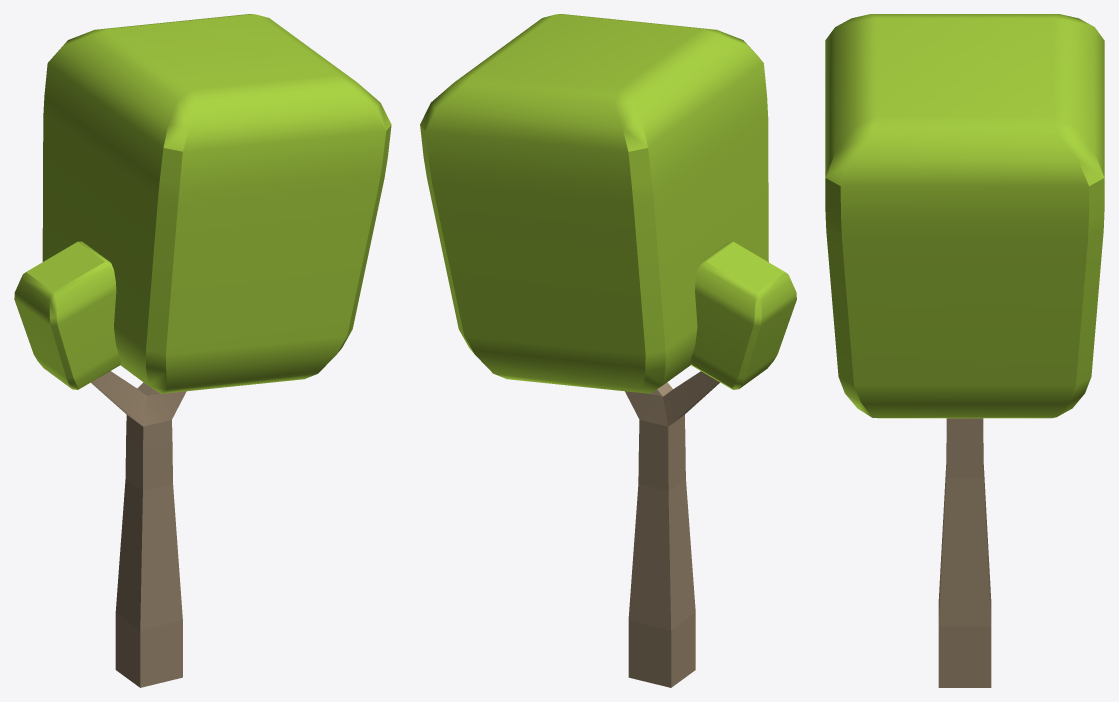
Rendered from tree2.fbx.
The picture shows the model from 3 angles, left to right: view 1: azimuth 30°, elevation 25°; view 2: azimuth 150°, elevation 25°; view 3: azimuth 270°, elevation 25°; orthographic projection. The views are drawn at different scales.
Parts seen in each view (by area): view 1: tree3; view 2: tree3; view 3: tree3.
Boxes of the visible parts, bbox=[...] form: tree3: bbox=[14, 14, 391, 687]; tree3: bbox=[420, 14, 796, 687]; tree3: bbox=[825, 14, 1104, 687].
Size of the model in its own units: 2.83 by 5.51 by 2.11.
